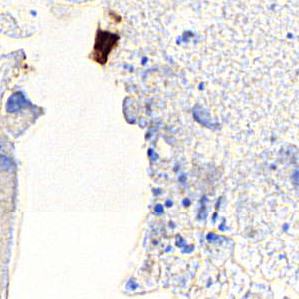Lymphocyte: (89, 28, 118, 65)
